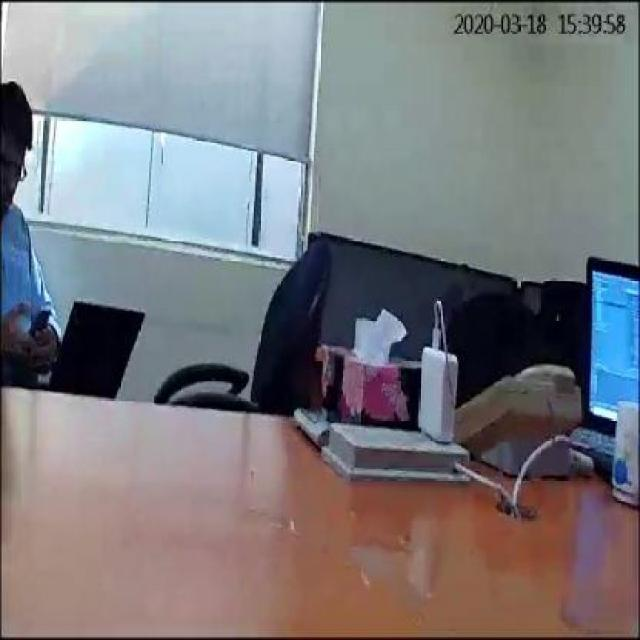spill: (340, 539, 460, 621)
